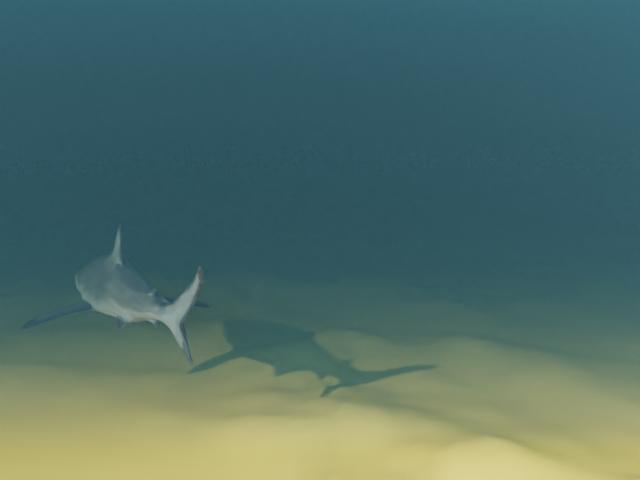Carribean Shark.001: (20, 224, 210, 363)
